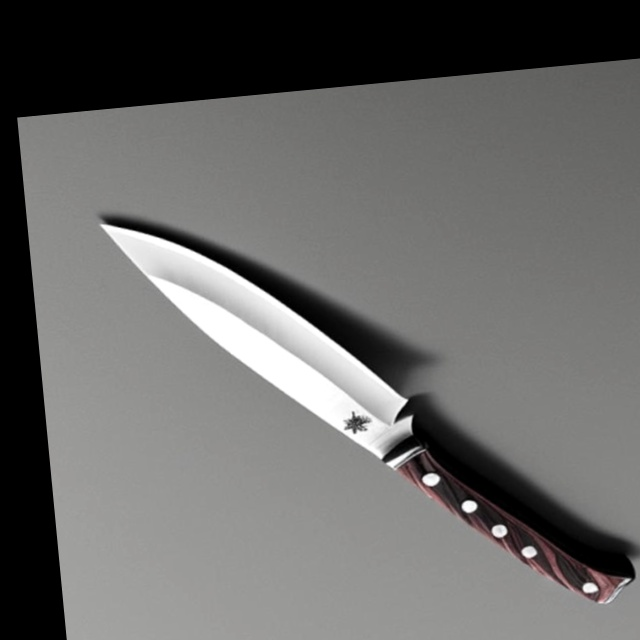Sharp-Object: (93, 167, 640, 640)
